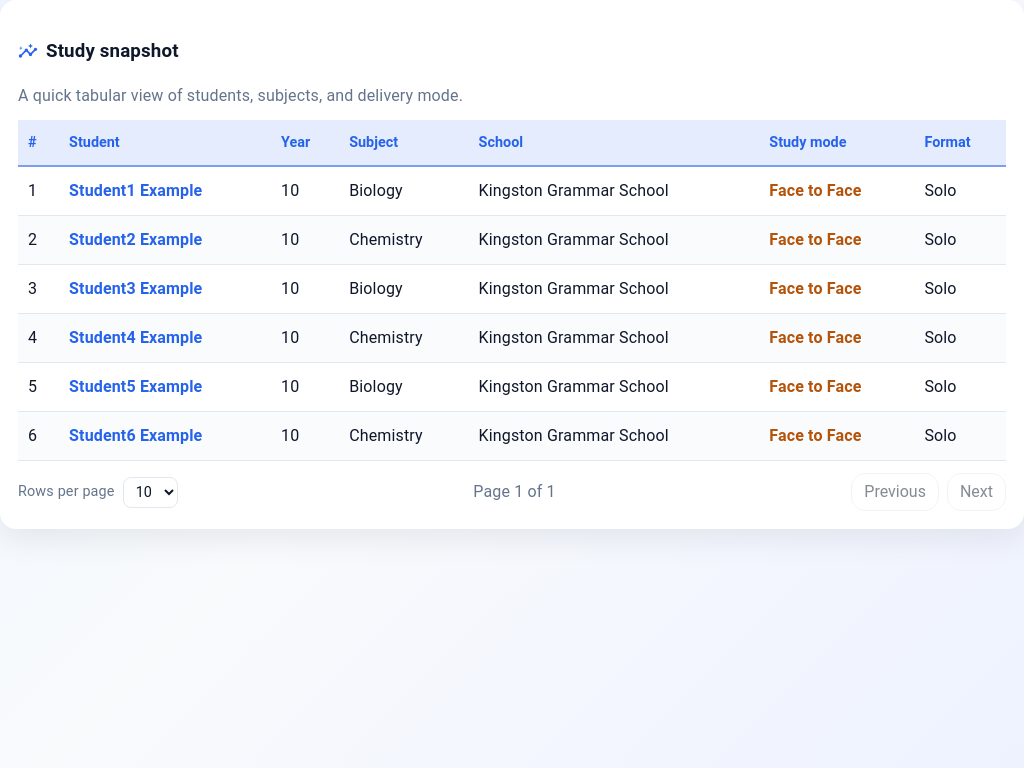
StudySnapshotView › sorts and paginates the student snapshot table
Select "5" in the dropdown labelled "Rows per page" at (150, 492), box [123,477,178,508]
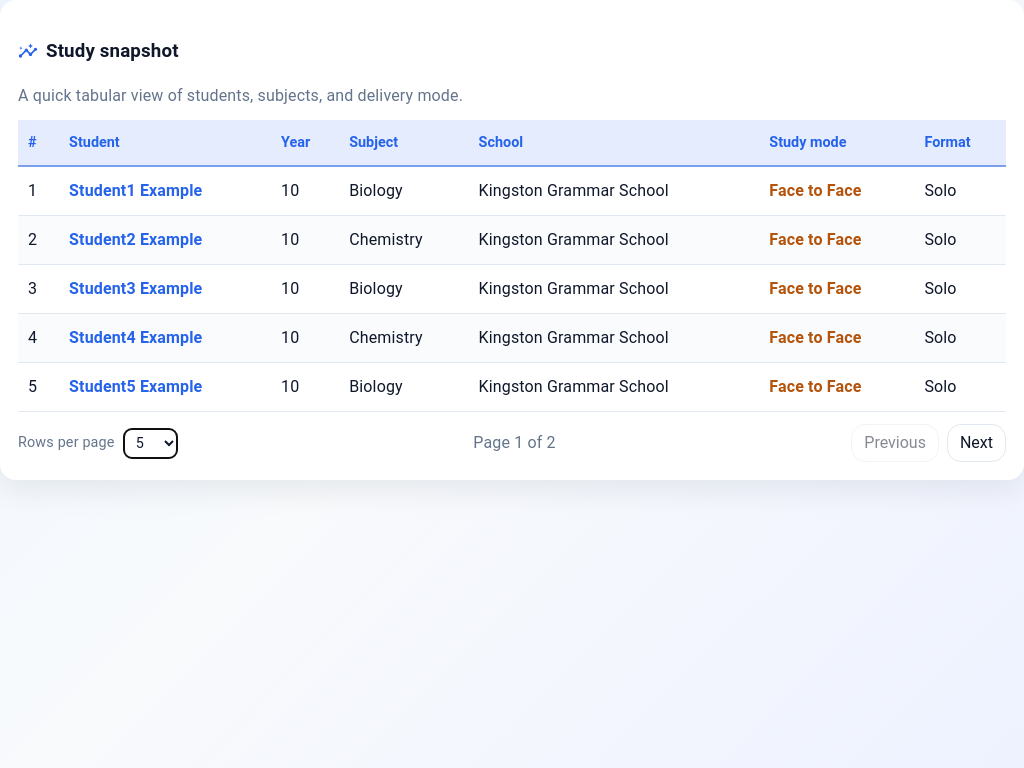
Check: the link "Student1 Example" is shown, box [69,181,202,200]
Check: the text "Page 1 of 2" is shown, box [473,431,556,455]
Check: the link "Student6 Example" is gone
Click the button "Subject" at (374, 142), box [349,132,398,153]
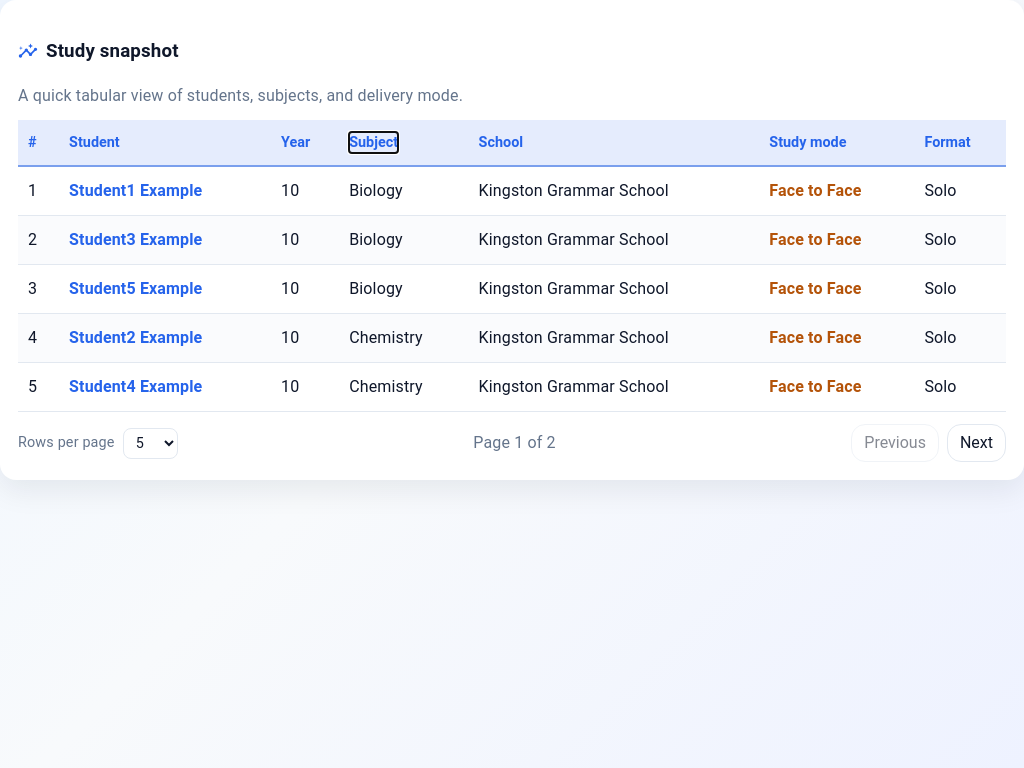
Check: the row that starts with "Student1" shows "Biology", box [349,181,403,200]
Click the button "Next" at (976, 443), box [947,424,1006,462]
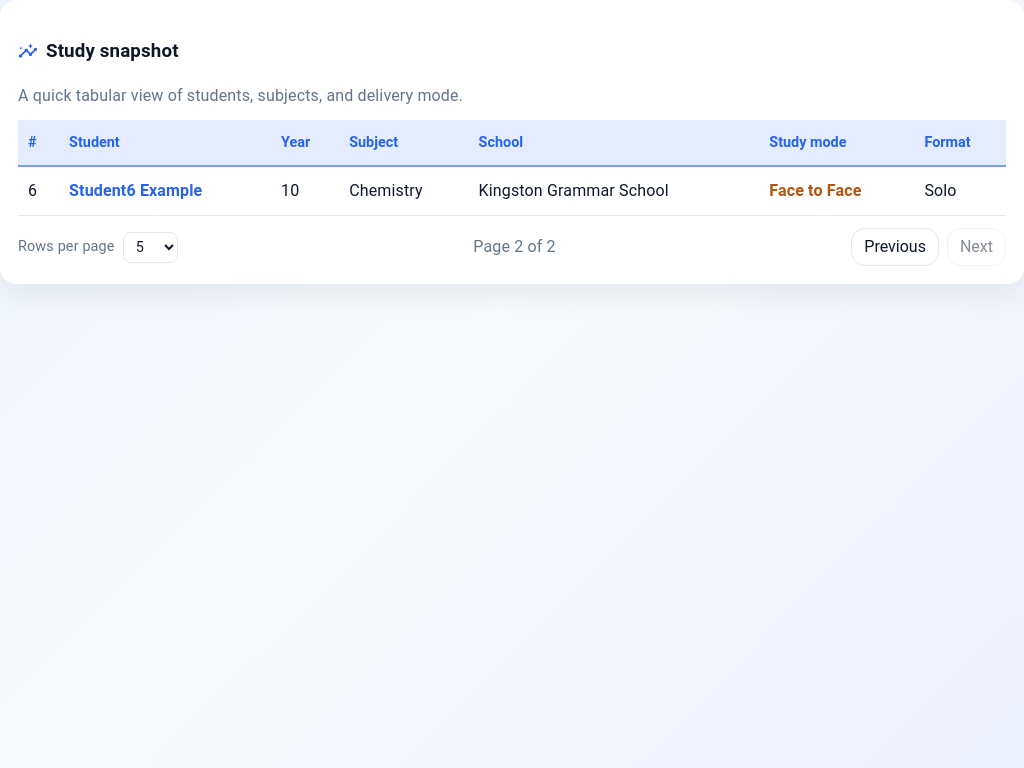
Check: the text "Page 2 of 2" is shown, box [473,235,556,259]
Check: the link "Student6 Example" is shown, box [69,181,202,200]
Click the button "Previous" at (895, 247), box [851,228,939,266]
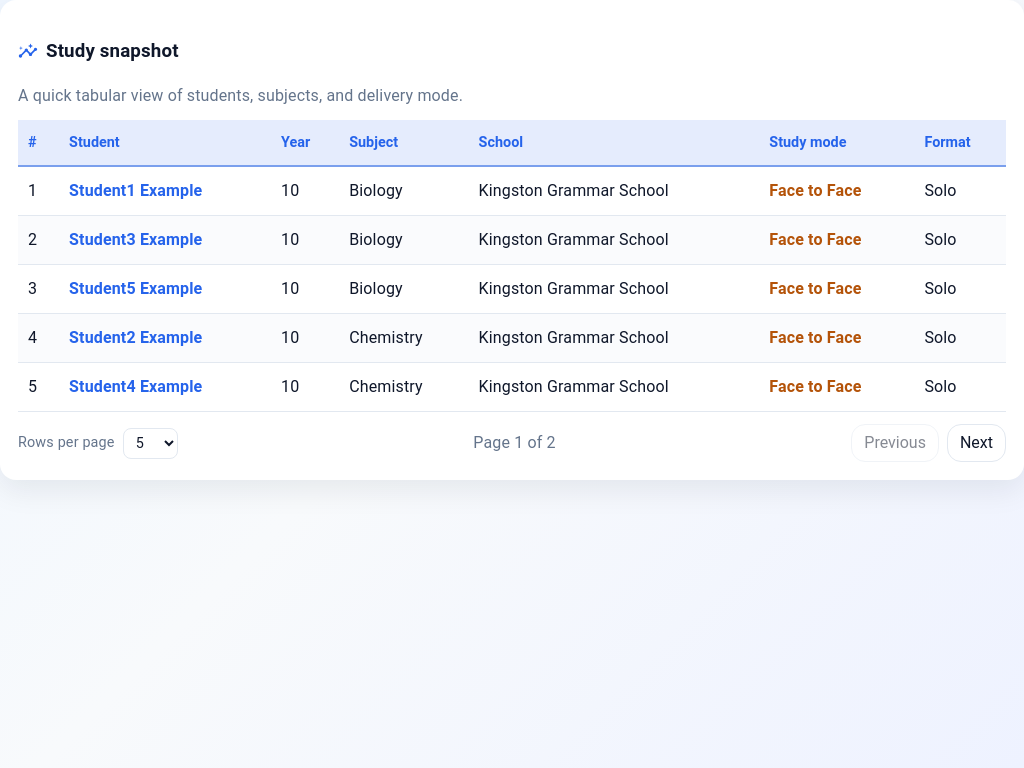
Check: the text "Page 1 of 2" is shown, box [473,431,556,455]
